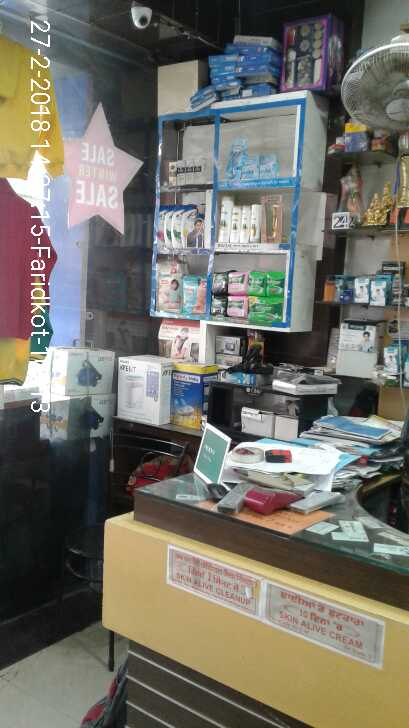venus: (225, 139, 243, 179), (259, 155, 279, 177), (244, 157, 259, 177)
